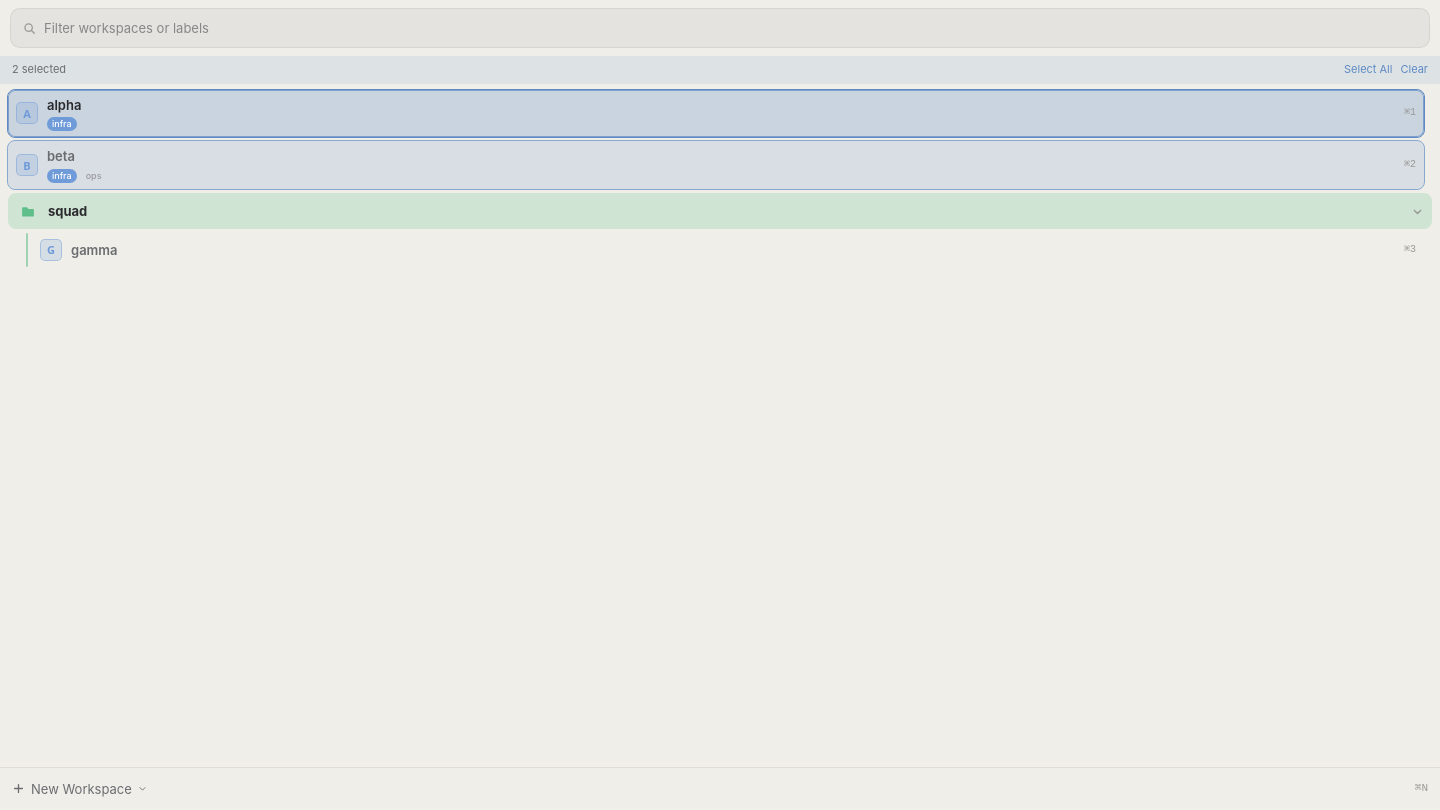
Scenario: bulk context menu › swaps the whole menu and heads it with the selection count
Right-click the option with test id "workspace-row" showing "A alpha infra ⌘1": [64, 105] box [8,90,1424,137]
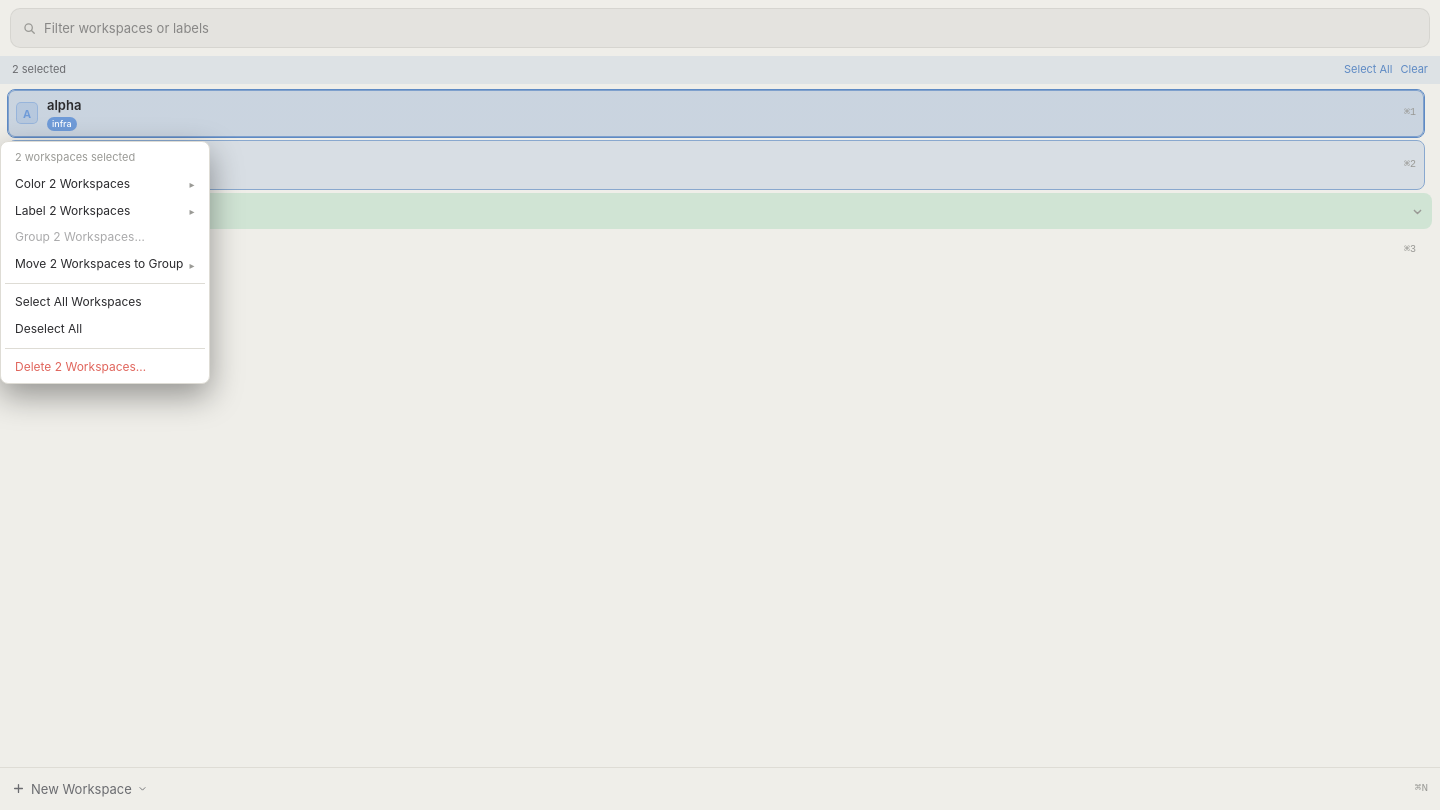
Now the text "2 workspaces selected" is shown, box [15,150,135,164]
Now the text "Color 2 Workspaces" is shown, box [15,176,130,191]
Now the text "Delete 2 Workspaces…" is shown, box [15,358,146,374]
